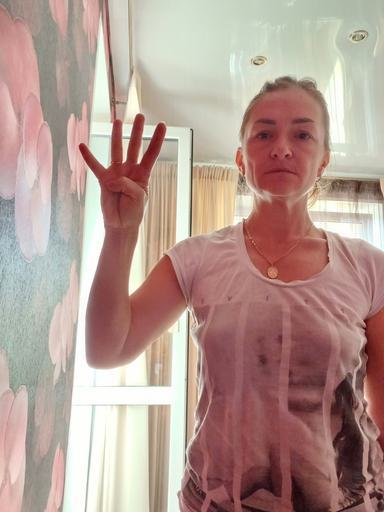four: (76, 112, 168, 230)
